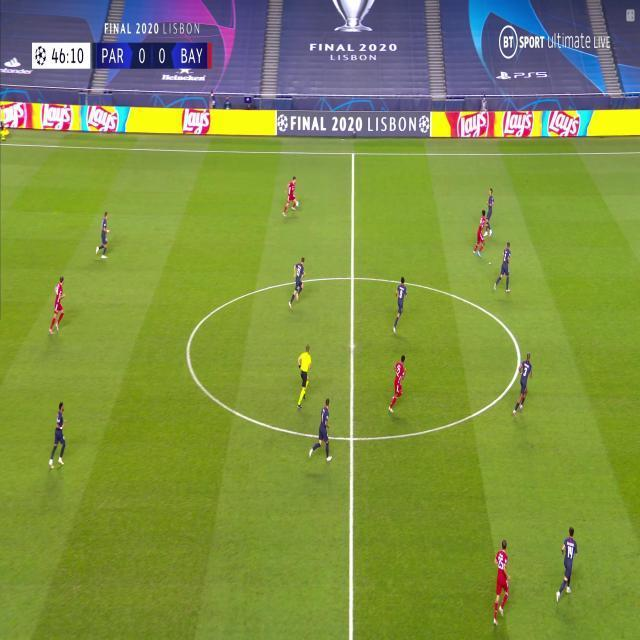player: (555, 525, 579, 602), (309, 397, 335, 464), (491, 538, 511, 623), (48, 400, 69, 468), (512, 352, 534, 415), (387, 355, 409, 413), (49, 274, 67, 334), (391, 276, 409, 334), (493, 241, 513, 293), (288, 256, 306, 308), (95, 210, 111, 260), (282, 174, 300, 218), (473, 209, 487, 258), (483, 185, 495, 235)
referee: (295, 342, 313, 407), (0, 104, 11, 141)
